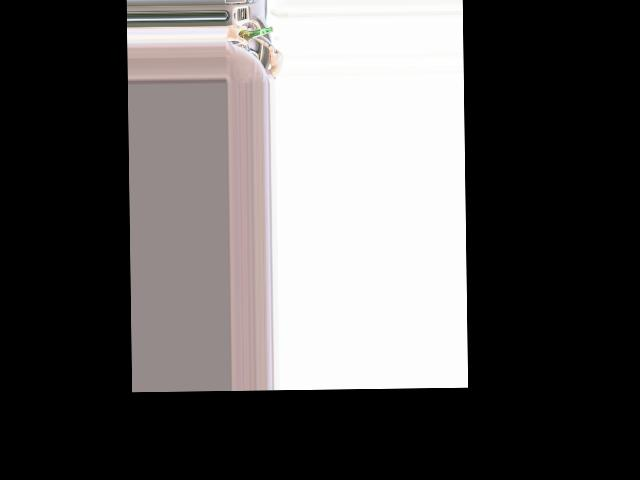beer: (226, 25, 273, 46)
